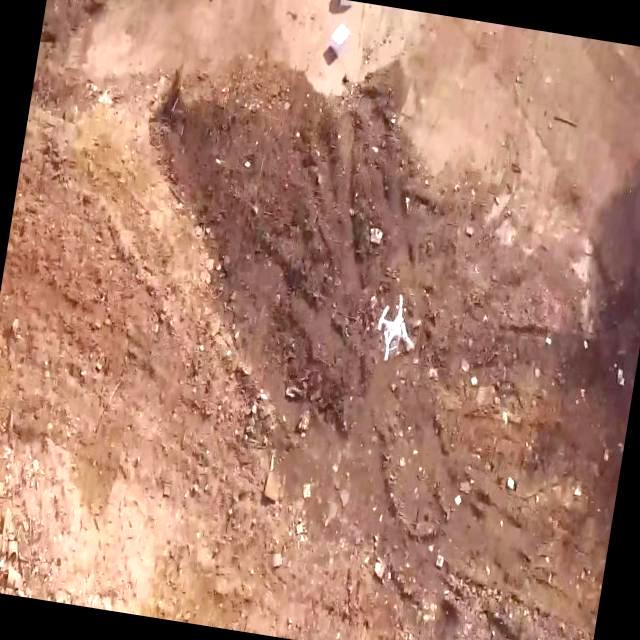drone: (375, 292, 420, 366)
